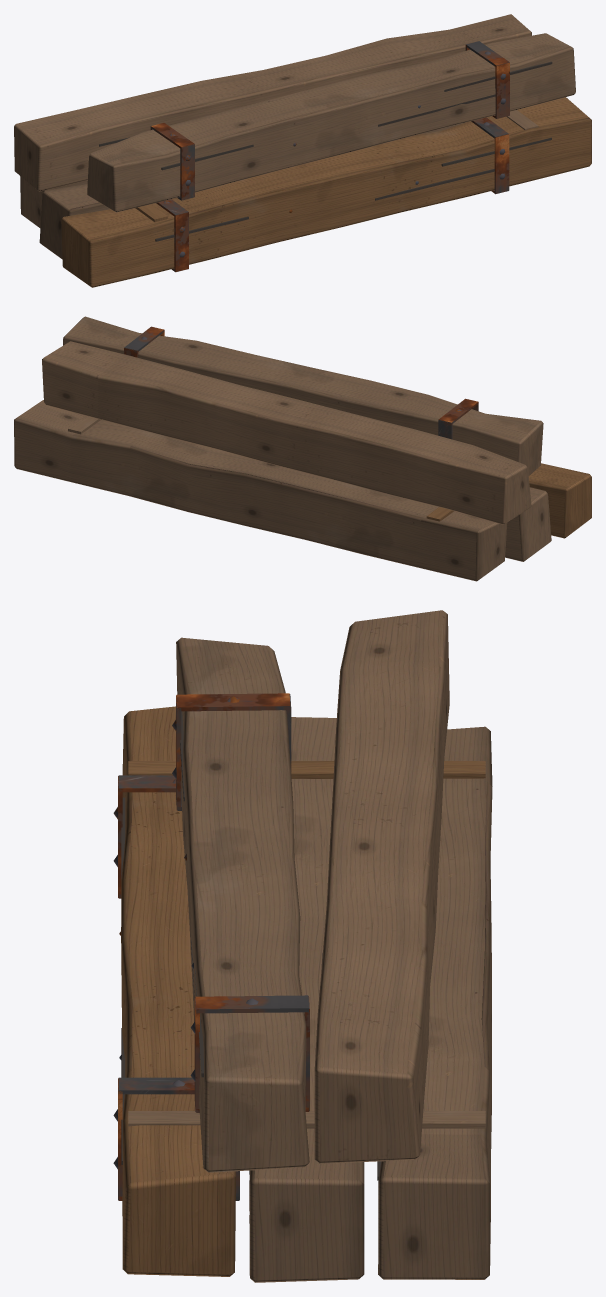
Rendered from Wooden_Beam_Stack.glb.
3 renders of one model, top to bottom at view 1: azimuth 30°, elevation 25°; view 2: azimuth 150°, elevation 25°; view 3: azimuth 270°, elevation 25°, orthographic. The views are drawn at different scales.
Parts seen in each view (by area): view 1: Wooden_Beam_Stack; view 2: Wooden_Beam_Stack; view 3: Wooden_Beam_Stack.
Boxes of the visible parts, box(x1,y1,x2,y2) form: Wooden_Beam_Stack: box(14, 14, 591, 287); Wooden_Beam_Stack: box(14, 316, 591, 581); Wooden_Beam_Stack: box(113, 610, 492, 1282).
Bounding box in the file's own units: 3.02 × 0.631 × 1.01.
Materials: 4 (3 with a texture image).
